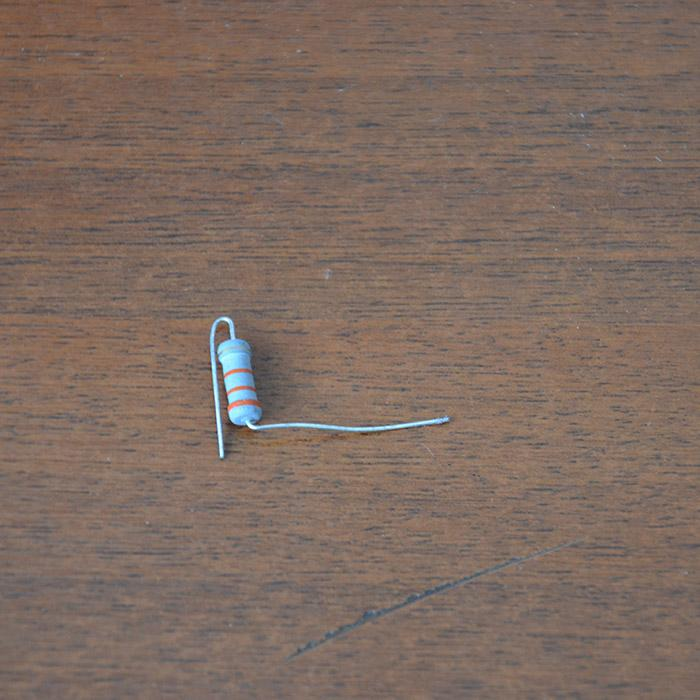resistor: (217, 338, 262, 426)
